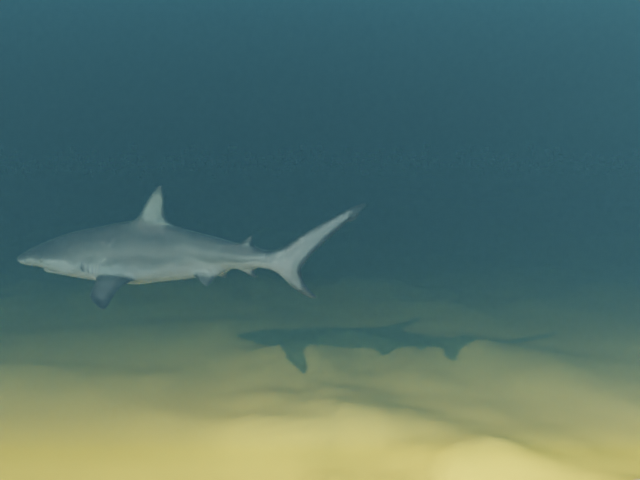Carribean Shark.001: (16, 185, 366, 309)
